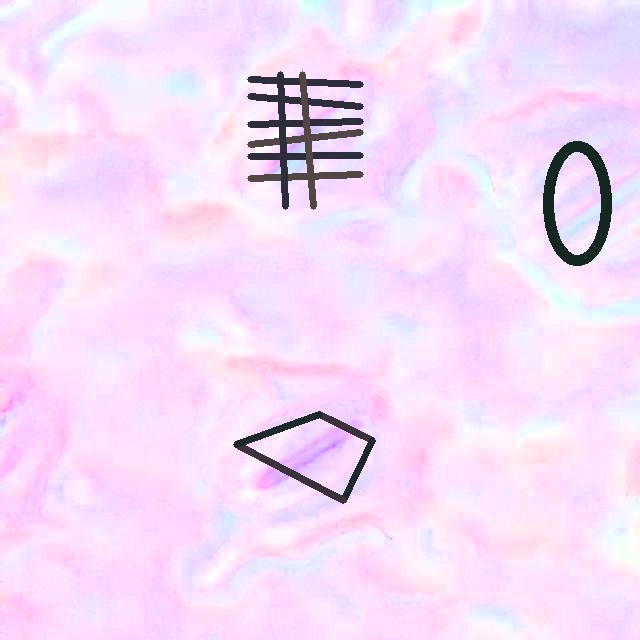open: (248, 72, 362, 208), (234, 412, 374, 503), (542, 141, 612, 264)
